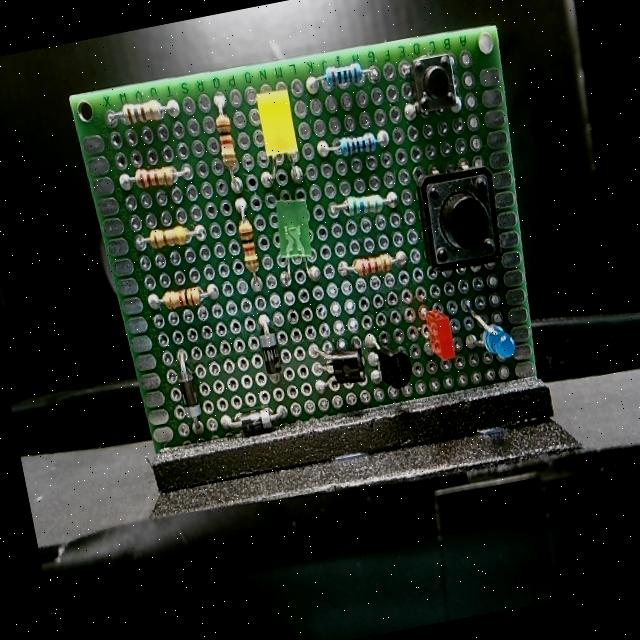diode: (174, 366, 206, 426), (255, 326, 287, 384), (234, 402, 282, 440)
led: (250, 85, 306, 174), (266, 191, 320, 273), (476, 309, 520, 366), (422, 304, 459, 368)
resistor: (112, 94, 174, 132), (130, 156, 186, 194), (212, 108, 242, 178), (339, 185, 391, 223), (144, 220, 198, 254), (235, 217, 264, 280), (332, 129, 386, 162), (319, 58, 370, 92), (350, 248, 402, 280), (160, 282, 210, 312)
switch: (407, 158, 510, 280), (402, 49, 462, 119)
transistor: (372, 337, 419, 398), (320, 341, 370, 390)
